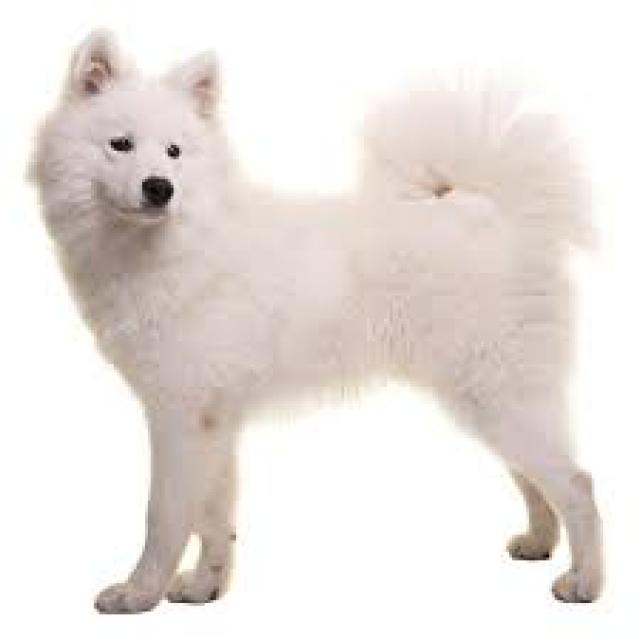dogs: (26, 26, 605, 614)
